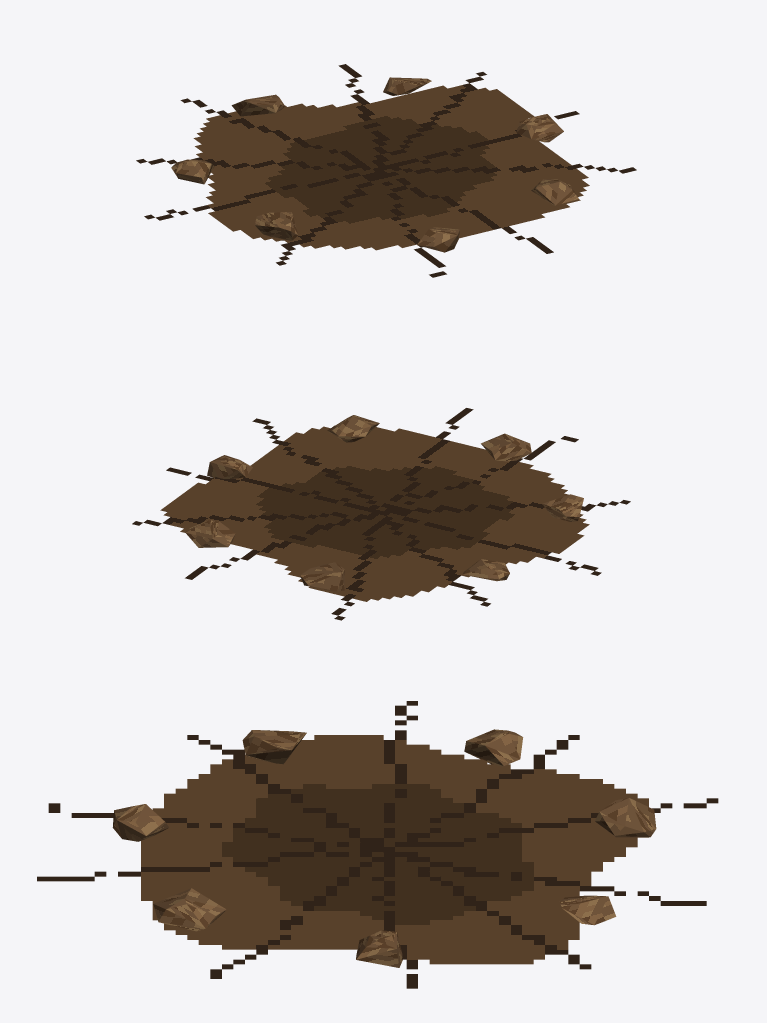
File: tr_sinkhole.glb
3 renders of one model, top to bottom at view 1: azimuth 30°, elevation 25°; view 2: azimuth 150°, elevation 25°; view 3: azimuth 270°, elevation 25°, orthographic. The views are drawn at different scales.
Parts seen in each view (by area): view 1: block_cracks, block_clod (×7); view 2: block_cracks, block_clod (×7); view 3: block_cracks, block_clod (×7).
Part boxes in pixels (x1,y1,x2,y2): block_cracks: [136, 64, 636, 277]; block_clod (×7): [171, 77, 578, 252]; block_cracks: [132, 408, 630, 620]; block_clod (×7): [185, 415, 583, 591]; block_cracks: [37, 701, 718, 988]; block_clod (×7): [112, 729, 656, 967].
Bounding box in the file's own units: 1 × 0.0393 × 1.
Materials: 2 (2 with a texture image).
